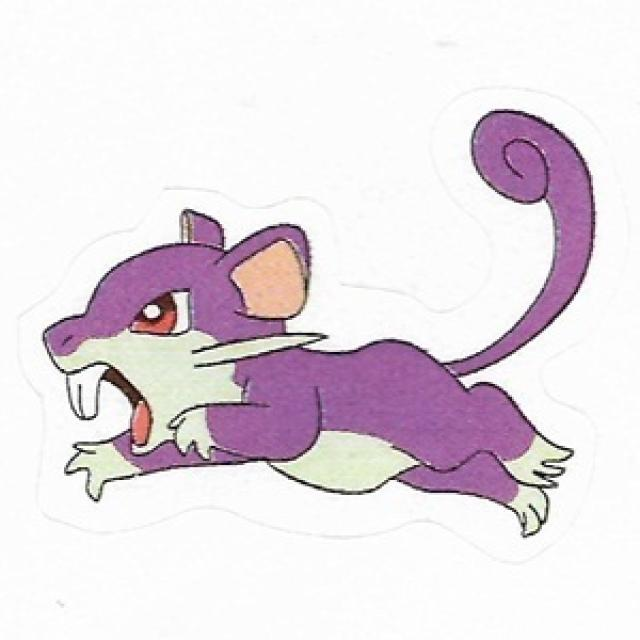Rattata: (39, 194, 590, 511)
